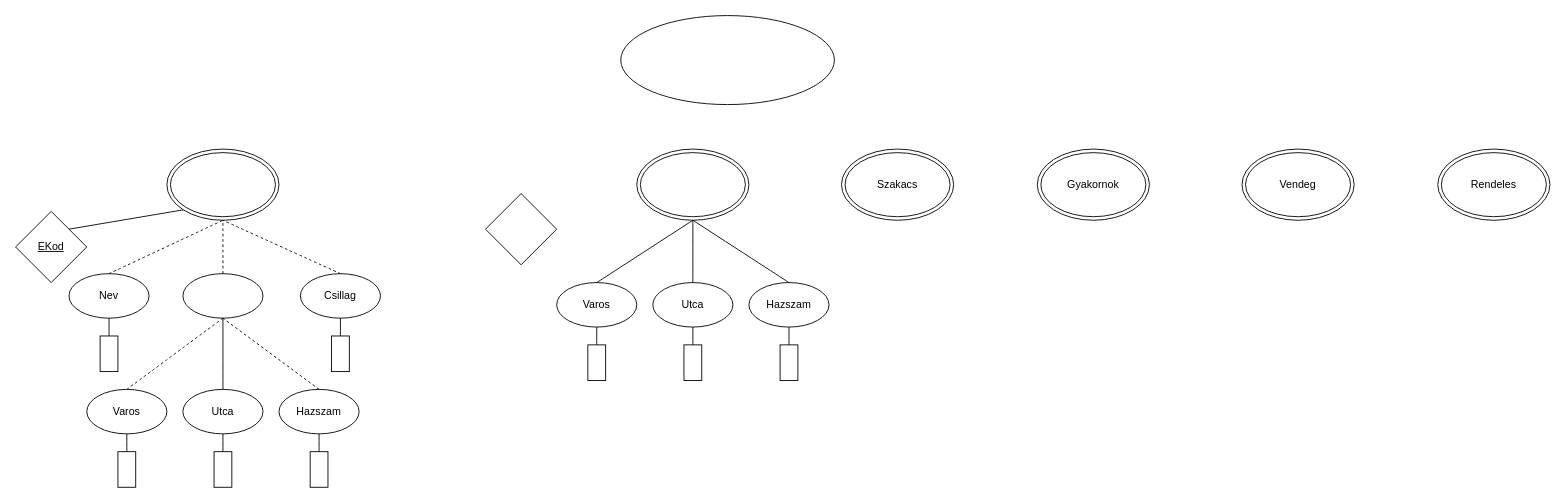
The diagram is 1566 pixels wide and 503 high, and some of its shapes have lost their labels. Here are the shapes that lost their labels. From the top down, the box of each, then its label:
(620, 15, 834, 105): Vendeglatas
(166, 148, 279, 220): Etterem
(636, 148, 749, 220): Foszakacs
(485, 193, 557, 265): FKod
(182, 273, 263, 318): Cim
